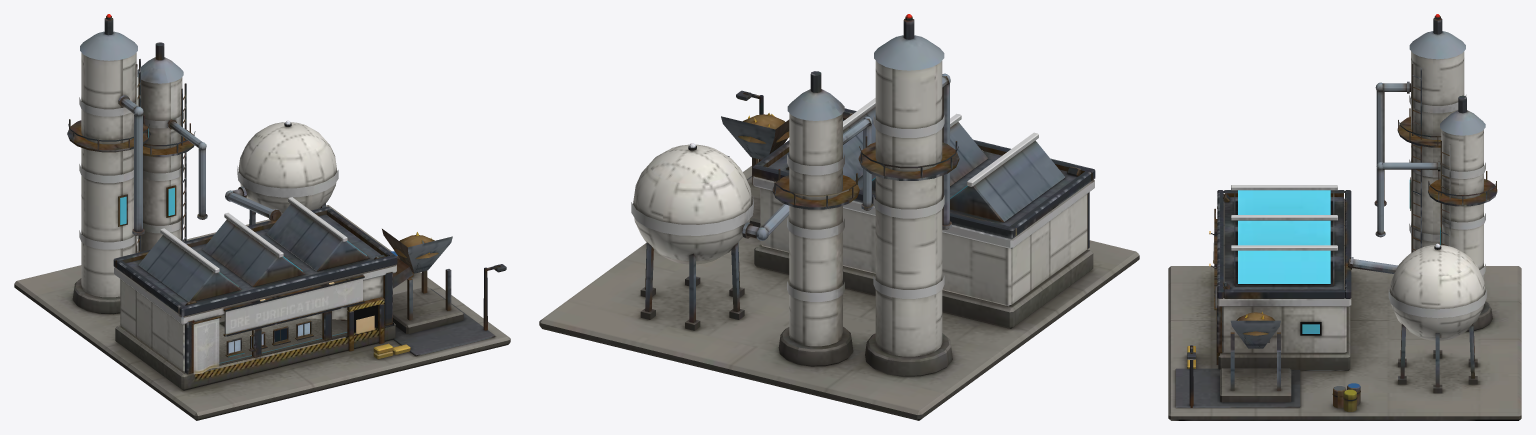
The model's file is purf.allies.glb.
The picture shows the model from 3 angles, left to right: view 1: azimuth 30°, elevation 25°; view 2: azimuth 150°, elevation 25°; view 3: azimuth 270°, elevation 25°; orthographic projection. The views are drawn at different scales.
Parts seen in each view (by area): view 1: root_mesh; view 2: root_mesh; view 3: root_mesh.
Part boxes in pixels (box(x1,y1,x2,y2)): root_mesh: box(14, 14, 510, 420); root_mesh: box(539, 14, 1139, 420); root_mesh: box(1168, 14, 1521, 420).
Size of the model in its own units: 2.01 by 1.75 by 1.98.
1 material, 1 textured.
